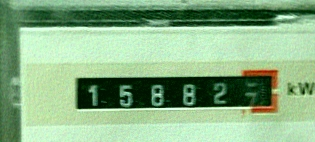1: (87, 83, 101, 108)
2: (213, 80, 229, 106)
5: (118, 83, 134, 108)
7: (244, 90, 258, 106)
8: (149, 83, 166, 107), (181, 81, 197, 106)
screen: (63, 63, 289, 123)
